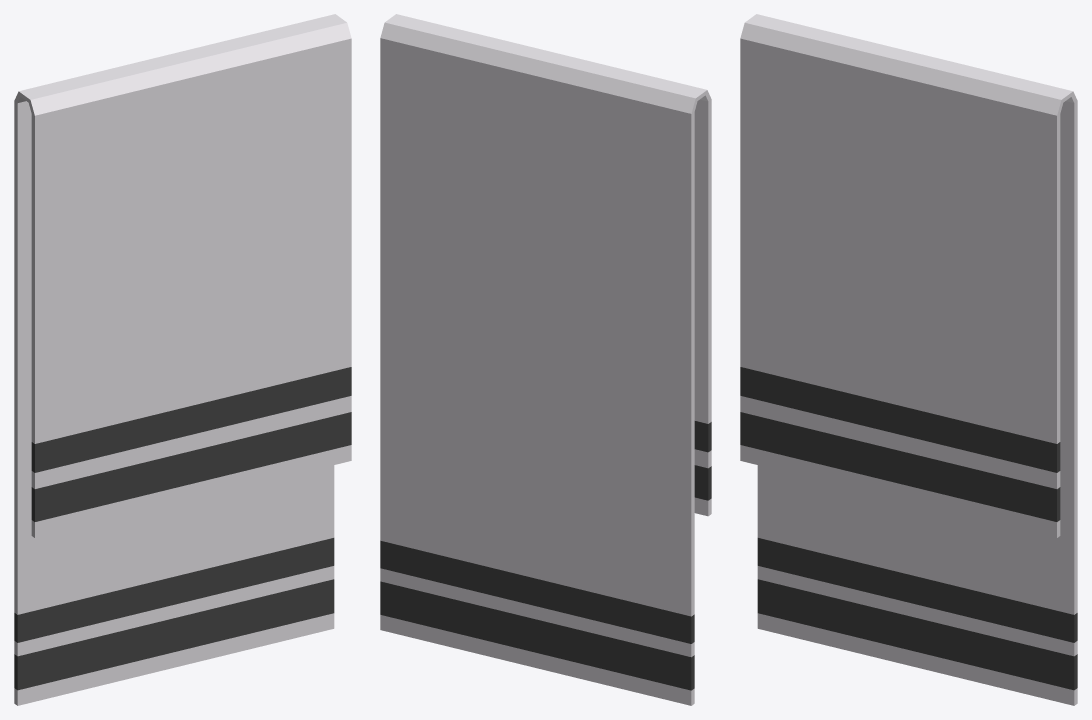
File: Towel_1.fbx
3 renders of one model, left to right at view 1: azimuth 30°, elevation 25°; view 2: azimuth 150°, elevation 25°; view 3: azimuth 330°, elevation 25°, orthographic.
Parts seen in each view (by area): view 1: polySurface679; view 2: polySurface679; view 3: polySurface679.
Part boxes in pixels (bbox=[...]): polySurface679: bbox=[14, 14, 351, 705]; polySurface679: bbox=[380, 14, 711, 705]; polySurface679: bbox=[740, 14, 1077, 705].
Size of the model in its own units: 0.55 by 1.02 by 0.0617.
Materials: 1 (1 with a texture image).
